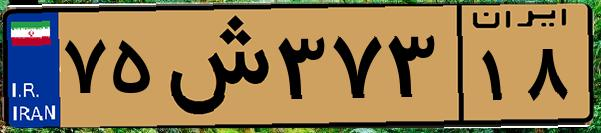1: (475, 38, 525, 113)
3: (270, 28, 330, 110), (385, 28, 445, 110)
5: (110, 28, 158, 98)
7: (330, 28, 385, 110), (57, 26, 110, 100)
8: (525, 38, 570, 115)
ش: (158, 12, 270, 120)
